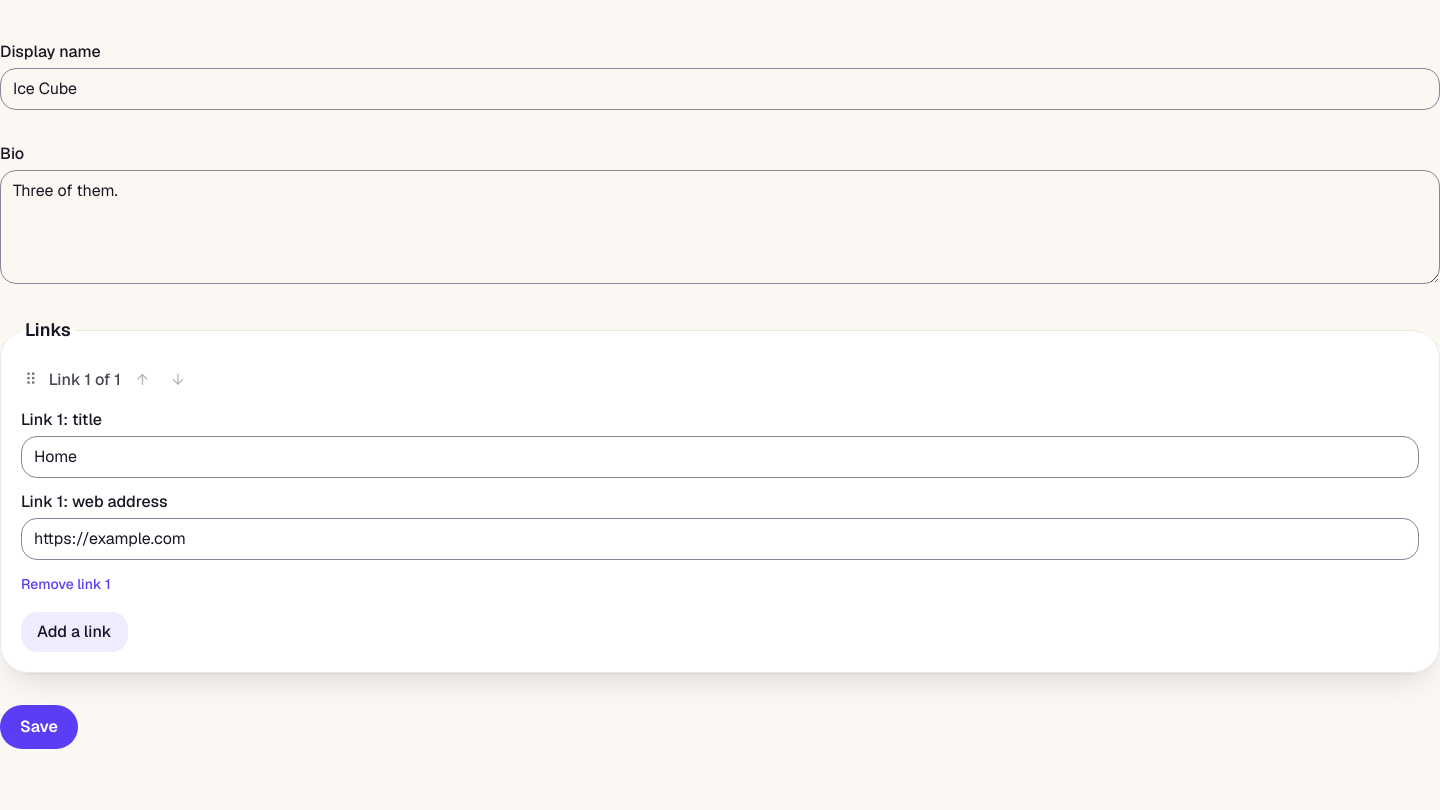
Test case: the Profile form, when the save is rejected › keeps every field the owner typed
Click the button "Save": {"x": 39, "y": 727} [0, 705, 78, 749]
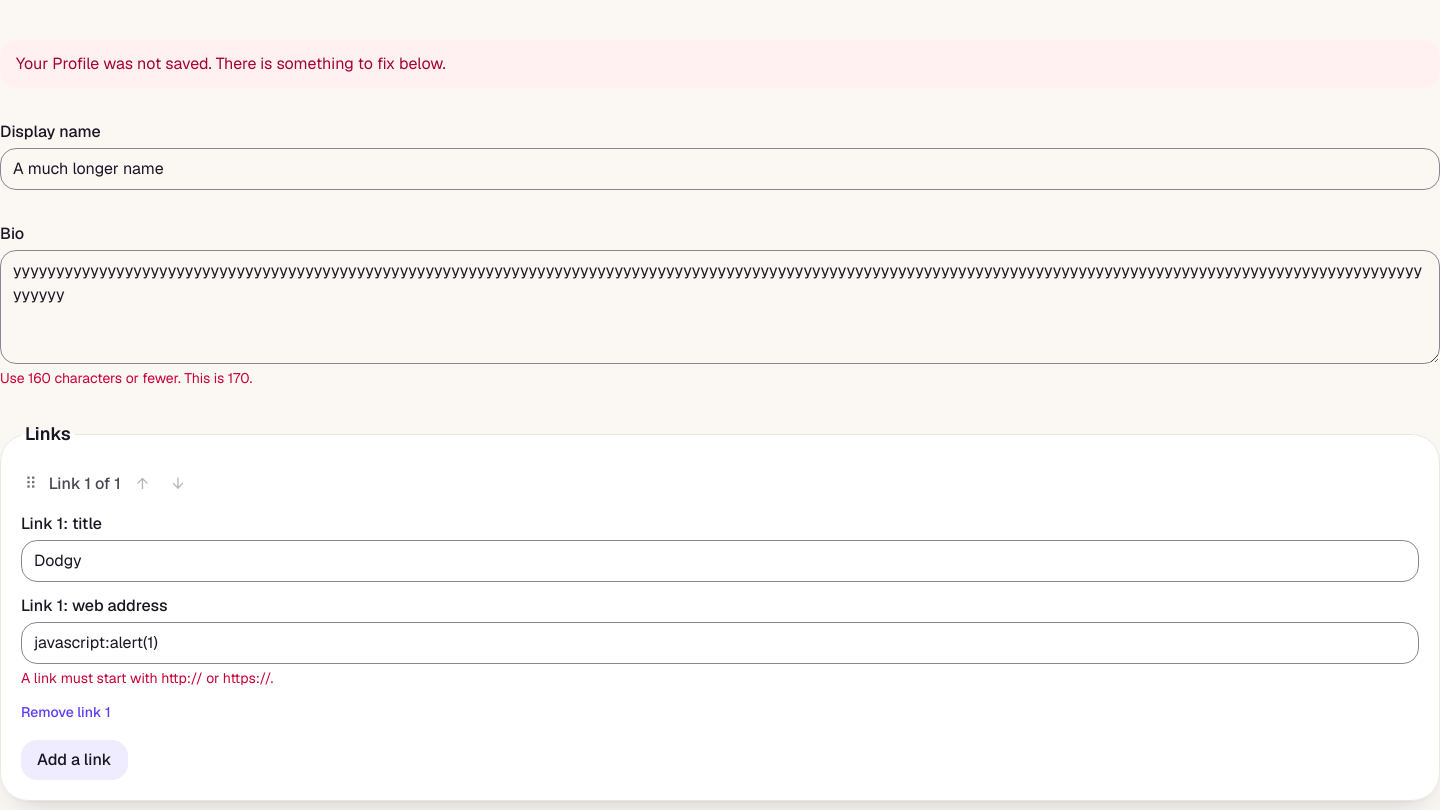
Now the field labelled "Display name" holds "A much longer name", box [0, 148, 1439, 190]
